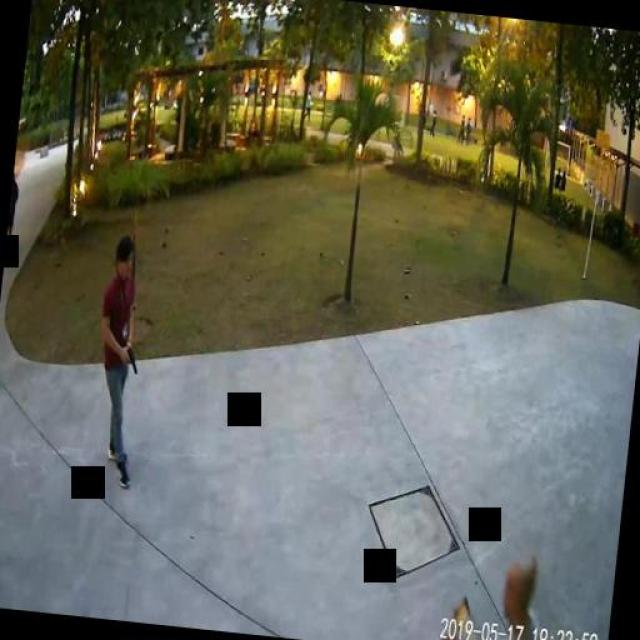gun: (122, 344, 138, 374)
